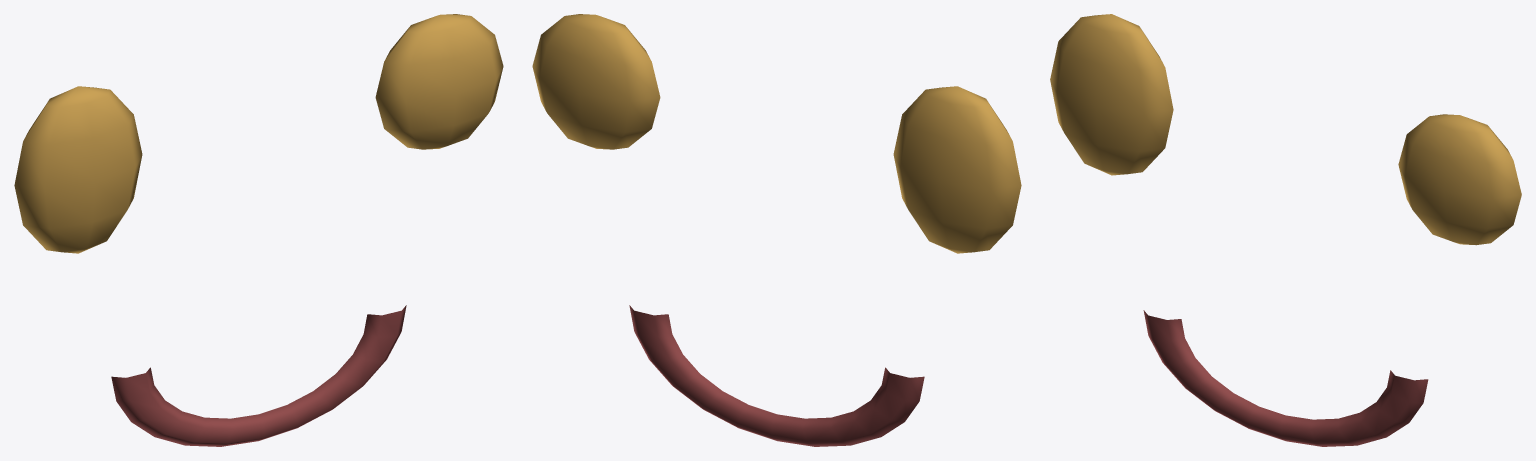
The model's file is child_02_face.glb.
3 views of the same model, side by side, from view 1: azimuth 30°, elevation 25°; view 2: azimuth 150°, elevation 25°; view 3: azimuth 330°, elevation 25° (orthographic). The views are drawn at different scales.
Parts seen in each view (by area): view 1: eye_l, eye_r, mouth; view 2: eye_l, eye_r, mouth; view 3: eye_l, eye_r, mouth.
Boxes of the visible parts, left/top/right/bottom form: eye_l: left=14, top=86, right=142, bottom=253; eye_r: left=375, top=14, right=503, bottom=149; mouth: left=111, top=305, right=406, bottom=446; eye_l: left=893, top=86, right=1021, bottom=253; eye_r: left=532, top=14, right=660, bottom=149; mouth: left=629, top=305, right=924, bottom=446; eye_l: left=1050, top=14, right=1173, bottom=175; eye_r: left=1398, top=114, right=1521, bottom=245; mouth: left=1143, top=310, right=1428, bottom=446.
Bounding box in the file's own units: 0.298 × 0.2323 × 0.0351.
